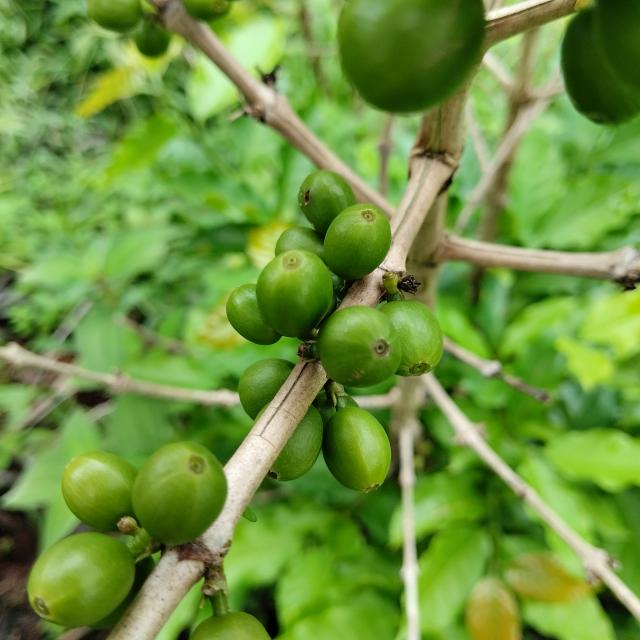green: (26, 533, 134, 628), (131, 442, 226, 546), (317, 306, 401, 388), (256, 249, 334, 337), (61, 452, 137, 532), (322, 407, 391, 493), (324, 203, 392, 280), (380, 300, 444, 377), (267, 405, 323, 482), (298, 170, 357, 235), (238, 359, 295, 420), (226, 283, 282, 345), (189, 613, 271, 640), (275, 226, 325, 262)
